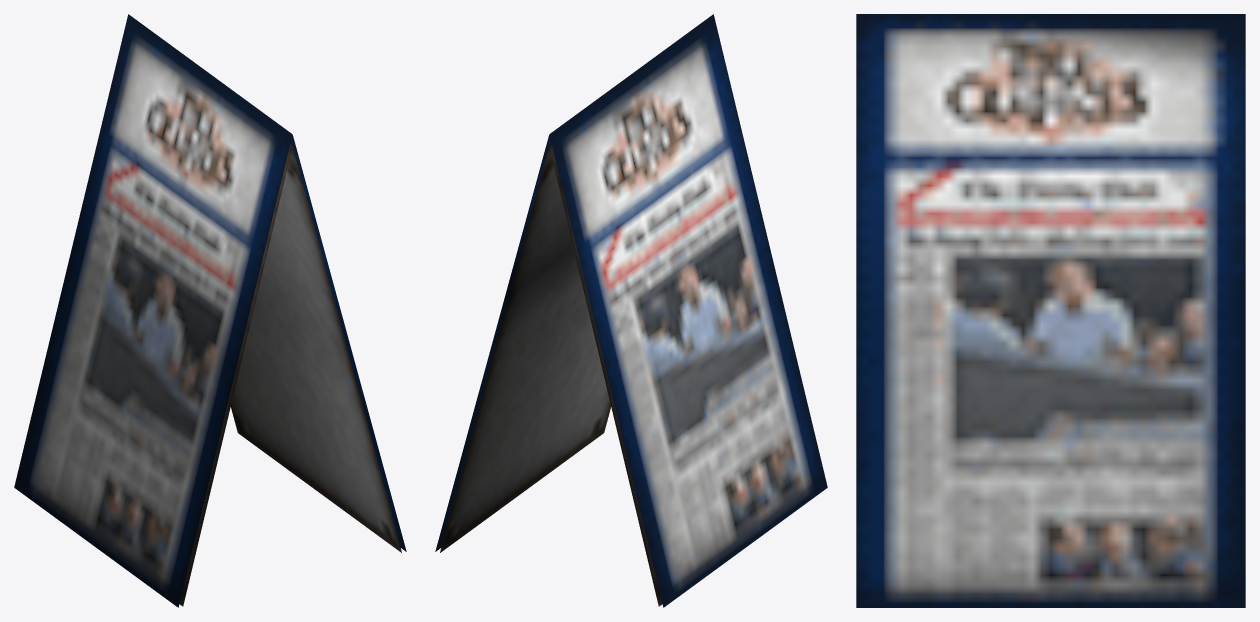
The model's file is newsstand0.fbx.
3 renders of one model, left to right at view 1: azimuth 30°, elevation 25°; view 2: azimuth 150°, elevation 25°; view 3: azimuth 270°, elevation 25°, orthographic. The views are drawn at different scales.
Visible parts, largest first — view 1: newsstand0; view 2: newsstand0; view 3: newsstand0.
Part boxes in pixels (left/top/right/bottom): newsstand0: left=14, top=14, right=406, bottom=607; newsstand0: left=435, top=14, right=827, bottom=607; newsstand0: left=856, top=14, right=1245, bottom=607.
Size of the model in its own units: 41.41 by 51.64 by 77.27.
Materials: 1 (1 with a texture image).
